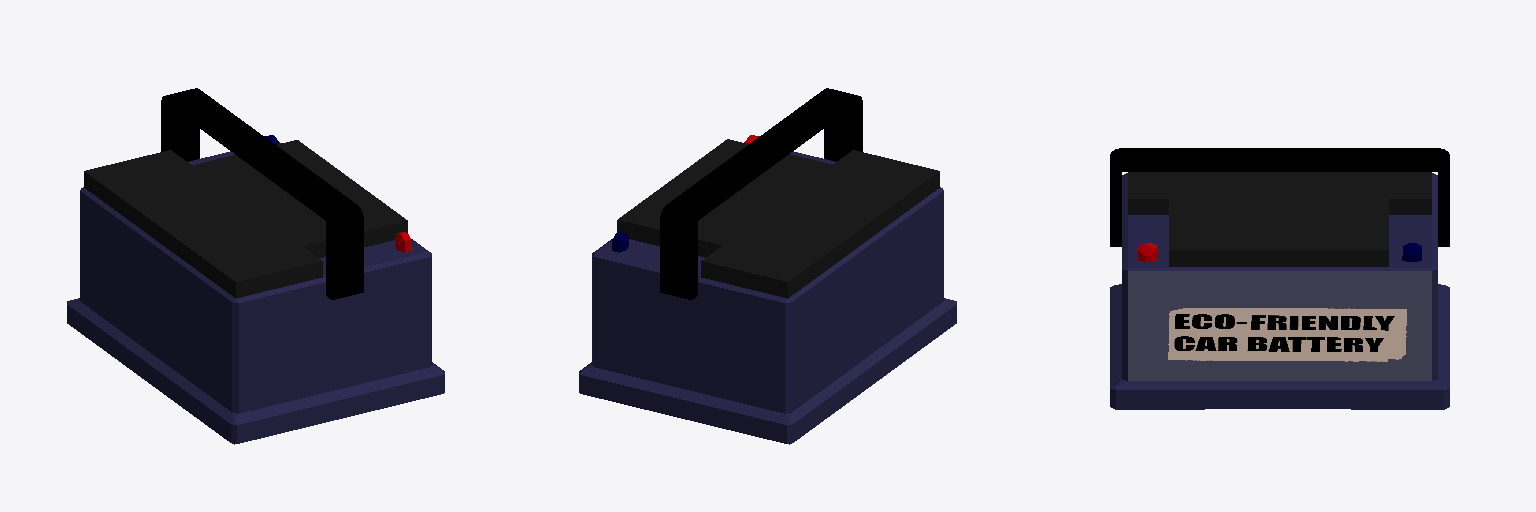
3 renders of one model, left to right at view 1: azimuth 30°, elevation 25°; view 2: azimuth 150°, elevation 25°; view 3: azimuth 270°, elevation 25°, orthographic.
Visible parts, largest first — view 1: Cube.002; view 2: Cube.002; view 3: Cube.002.
Boxes of the visible parts, <box> form: Cube.002: <box>67,88,444,444</box>; Cube.002: <box>579,88,956,444</box>; Cube.002: <box>1110,148,1449,409</box>.
Size of the model in its own units: 2.15 by 1.98 by 2.96.
6 materials, 1 textured.